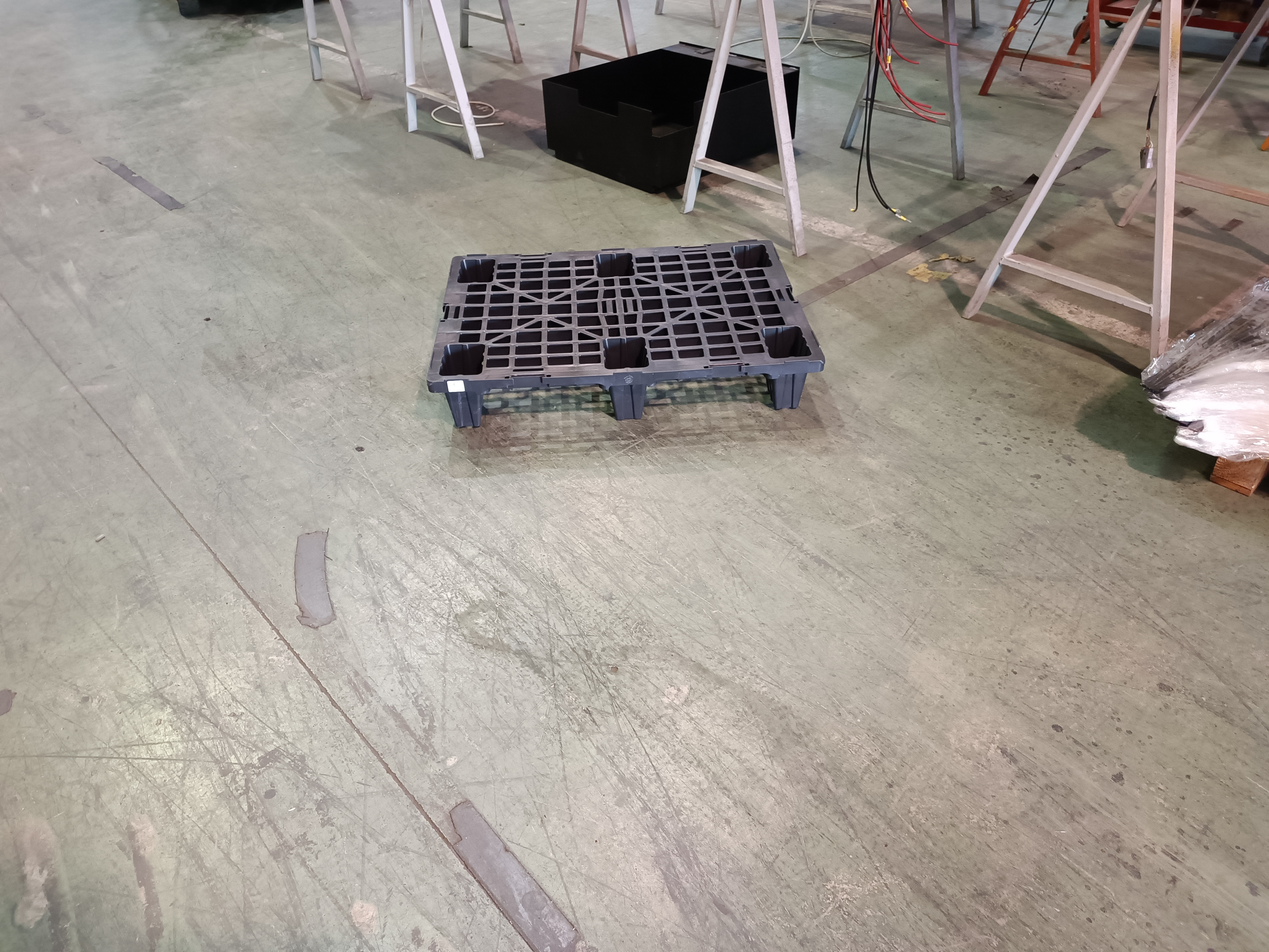block: (608, 379, 652, 431), (439, 392, 483, 439), (756, 376, 807, 416)
front: (422, 356, 832, 438)
hole pallet: (644, 370, 773, 426), (479, 382, 612, 426)
